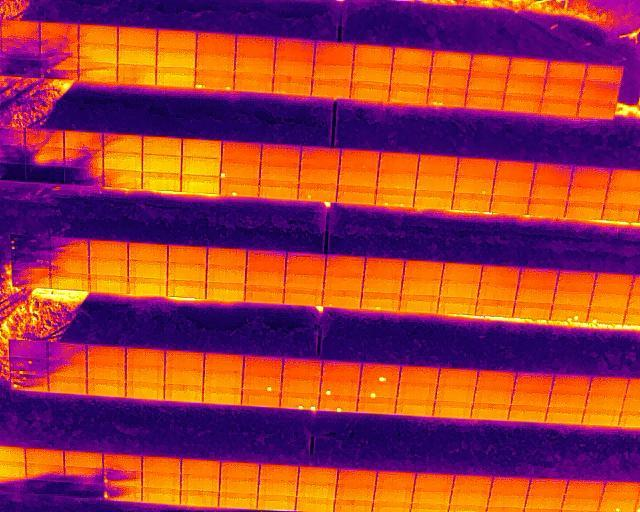Cell: (454, 175, 494, 195), (360, 363, 401, 382), (361, 294, 402, 313), (298, 182, 336, 202), (220, 160, 260, 179), (103, 484, 142, 503), (357, 381, 399, 398), (242, 374, 281, 392), (220, 178, 259, 196), (319, 394, 360, 411), (320, 380, 361, 396), (588, 307, 627, 323), (102, 468, 141, 484), (600, 496, 636, 512)
Cell-Multi: (195, 69, 235, 91), (375, 187, 414, 207), (428, 87, 466, 106), (9, 358, 49, 375), (10, 234, 50, 251), (280, 393, 319, 410), (11, 373, 49, 390), (548, 307, 590, 321)
No-Anomaly: (78, 60, 117, 84), (234, 35, 275, 57), (261, 142, 301, 163), (543, 76, 583, 97), (314, 42, 354, 63), (117, 26, 157, 47), (554, 272, 595, 292), (350, 81, 391, 101), (310, 78, 351, 98), (468, 71, 507, 92), (390, 65, 429, 86), (117, 44, 156, 65), (534, 163, 573, 184), (418, 154, 457, 175), (78, 23, 117, 44), (299, 145, 339, 165), (272, 75, 312, 95), (351, 62, 391, 82), (354, 44, 394, 64), (195, 32, 235, 52), (377, 170, 417, 190), (518, 270, 560, 289), (582, 80, 620, 101), (540, 96, 579, 116), (389, 85, 428, 105), (234, 73, 273, 93), (156, 67, 195, 87), (117, 64, 156, 84), (414, 189, 453, 209), (337, 185, 376, 205), (259, 180, 298, 200), (180, 156, 219, 176), (379, 152, 418, 172), (339, 149, 380, 168), (221, 141, 262, 160), (402, 262, 443, 281), (441, 264, 484, 282), (204, 352, 244, 371), (205, 283, 245, 302), (89, 275, 129, 294), (103, 152, 143, 171), (181, 139, 221, 158), (429, 68, 469, 87), (274, 38, 314, 57), (481, 266, 521, 285), (364, 259, 404, 278), (167, 246, 207, 265), (141, 171, 181, 190), (298, 164, 338, 183), (259, 162, 299, 181), (141, 155, 181, 174), (320, 362, 362, 380), (282, 359, 324, 377), (594, 274, 636, 292), (391, 47, 433, 65), (244, 253, 286, 271), (126, 349, 165, 368), (323, 289, 362, 308), (49, 270, 88, 289), (143, 136, 182, 155), (470, 54, 509, 73), (156, 31, 195, 50), (490, 195, 529, 214), (338, 167, 377, 186), (571, 166, 610, 185), (458, 157, 497, 176), (242, 356, 283, 374), (324, 257, 365, 275), (87, 238, 128, 256), (401, 294, 439, 313), (503, 95, 541, 114), (507, 76, 545, 95), (528, 198, 566, 217), (495, 160, 533, 179), (553, 375, 593, 393), (578, 99, 614, 119), (312, 63, 352, 81), (206, 266, 246, 284), (88, 257, 128, 275), (85, 377, 127, 394), (513, 372, 555, 389), (439, 281, 481, 298), (141, 486, 180, 504), (584, 64, 623, 82), (274, 57, 313, 75), (156, 50, 195, 68), (78, 44, 117, 62), (180, 473, 219, 491), (568, 184, 607, 202), (492, 179, 531, 197), (181, 176, 220, 194), (475, 370, 516, 387), (437, 297, 478, 314), (478, 284, 519, 301), (234, 56, 275, 73), (395, 398, 436, 415), (397, 382, 438, 399), (471, 403, 512, 420), (466, 92, 504, 110), (282, 376, 322, 393), (203, 372, 243, 389), (437, 368, 477, 385), (591, 291, 631, 308), (284, 288, 324, 305), (127, 277, 167, 294), (509, 59, 549, 76), (195, 52, 235, 69), (431, 51, 471, 68), (357, 397, 397, 414), (218, 492, 258, 509), (586, 393, 626, 410), (511, 389, 551, 406), (435, 385, 475, 402), (163, 384, 203, 401), (127, 260, 167, 277), (285, 256, 325, 273), (206, 249, 246, 266), (127, 243, 167, 260), (102, 171, 142, 188), (399, 367, 441, 383), (322, 274, 364, 290), (566, 201, 603, 219), (531, 182, 568, 200), (417, 172, 454, 190), (126, 381, 165, 398), (141, 470, 180, 487), (103, 452, 142, 469), (563, 494, 602, 511), (244, 286, 285, 302), (363, 278, 404, 294), (283, 273, 324, 289), (202, 388, 243, 404), (581, 410, 622, 426), (221, 461, 259, 478), (548, 61, 586, 78), (167, 265, 205, 282), (588, 378, 628, 394), (164, 368, 204, 384), (125, 367, 165, 383), (164, 352, 204, 368), (86, 345, 126, 361), (258, 463, 298, 479), (474, 388, 514, 404), (545, 407, 585, 423), (514, 289, 556, 304), (476, 301, 515, 317), (297, 482, 336, 498), (167, 281, 206, 297), (180, 459, 219, 475), (434, 401, 473, 417), (548, 392, 587, 408), (259, 479, 298, 495), (566, 478, 605, 494), (491, 476, 530, 492), (452, 195, 491, 211), (400, 280, 441, 295), (245, 271, 286, 286), (87, 362, 125, 378), (527, 493, 565, 509), (338, 469, 376, 485), (511, 405, 549, 421), (373, 486, 413, 501), (141, 457, 181, 472), (241, 392, 281, 407), (376, 471, 416, 486), (296, 497, 336, 512), (49, 376, 86, 392), (336, 484, 375, 499), (514, 302, 553, 317), (553, 292, 592, 307), (488, 491, 527, 506), (219, 478, 258, 493), (452, 475, 491, 490), (414, 473, 453, 488), (64, 452, 103, 467), (25, 449, 64, 464), (257, 496, 296, 511), (603, 481, 639, 497), (299, 467, 337, 482), (530, 478, 568, 493), (412, 488, 452, 502), (450, 489, 489, 503), (180, 491, 218, 505), (334, 498, 372, 512)
Shadowing: (49, 252, 89, 274), (63, 129, 103, 150), (1, 38, 41, 58), (10, 250, 50, 270), (40, 22, 78, 43), (102, 133, 143, 152), (0, 58, 41, 77), (49, 237, 88, 256), (41, 61, 79, 80), (41, 42, 79, 61), (48, 359, 87, 377), (25, 164, 64, 182), (26, 148, 64, 166), (64, 150, 104, 167), (0, 21, 40, 38), (64, 482, 103, 499), (25, 130, 64, 147), (9, 340, 47, 357), (12, 270, 50, 287), (26, 463, 64, 480), (47, 343, 87, 359), (64, 168, 104, 184), (63, 466, 102, 482), (25, 480, 64, 496)
